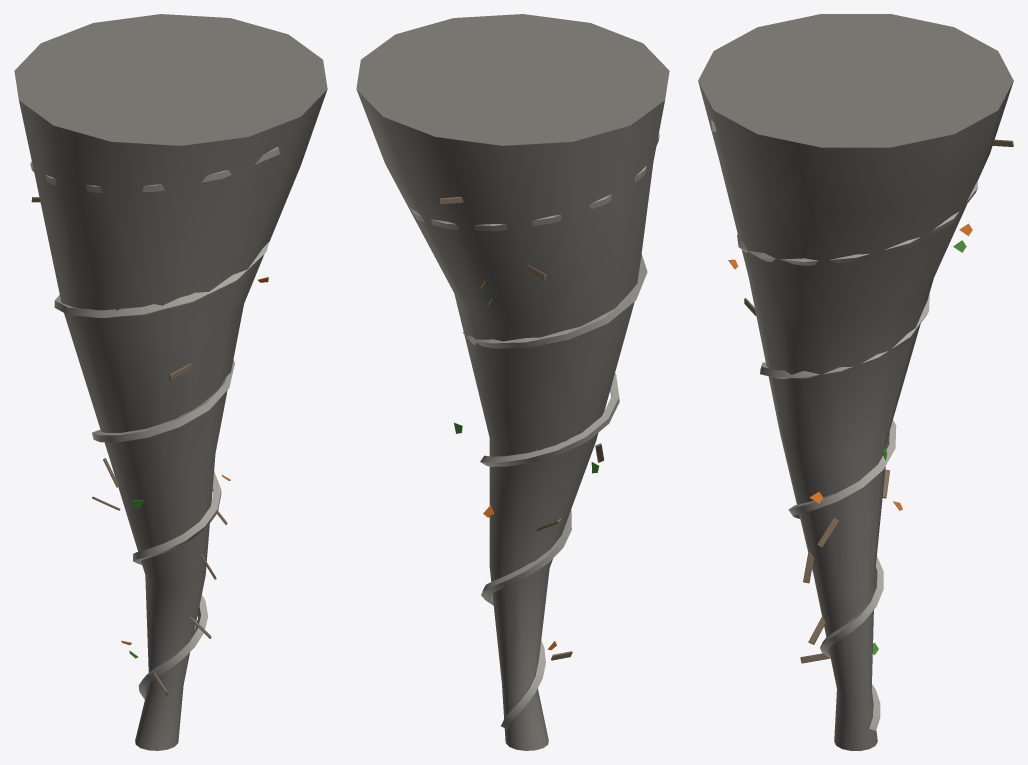
File: 388_tornade.fbx
The picture shows the model from 3 angles, left to right: view 1: azimuth 30°, elevation 25°; view 2: azimuth 150°, elevation 25°; view 3: azimuth 270°, elevation 25°; orthographic projection.
Visible parts, largest first — view 1: Entonnoir, Debris; view 2: Entonnoir, Debris; view 3: Entonnoir, Debris.
Boxes of the visible parts, x1=… form: Entonnoir: x1=14, y1=14, x2=327, y2=750; Debris: x1=31, y1=197, x2=268, y2=695; Entonnoir: x1=356, y1=14, x2=669, y2=750; Debris: x1=438, y1=197, x2=603, y2=671; Entonnoir: x1=698, y1=14, x2=1013, y2=750; Debris: x1=728, y1=139, x2=1013, y2=663.
Size of the model in its own units: 8.4 by 19.6 by 8.4.
1 material, 1 textured.
